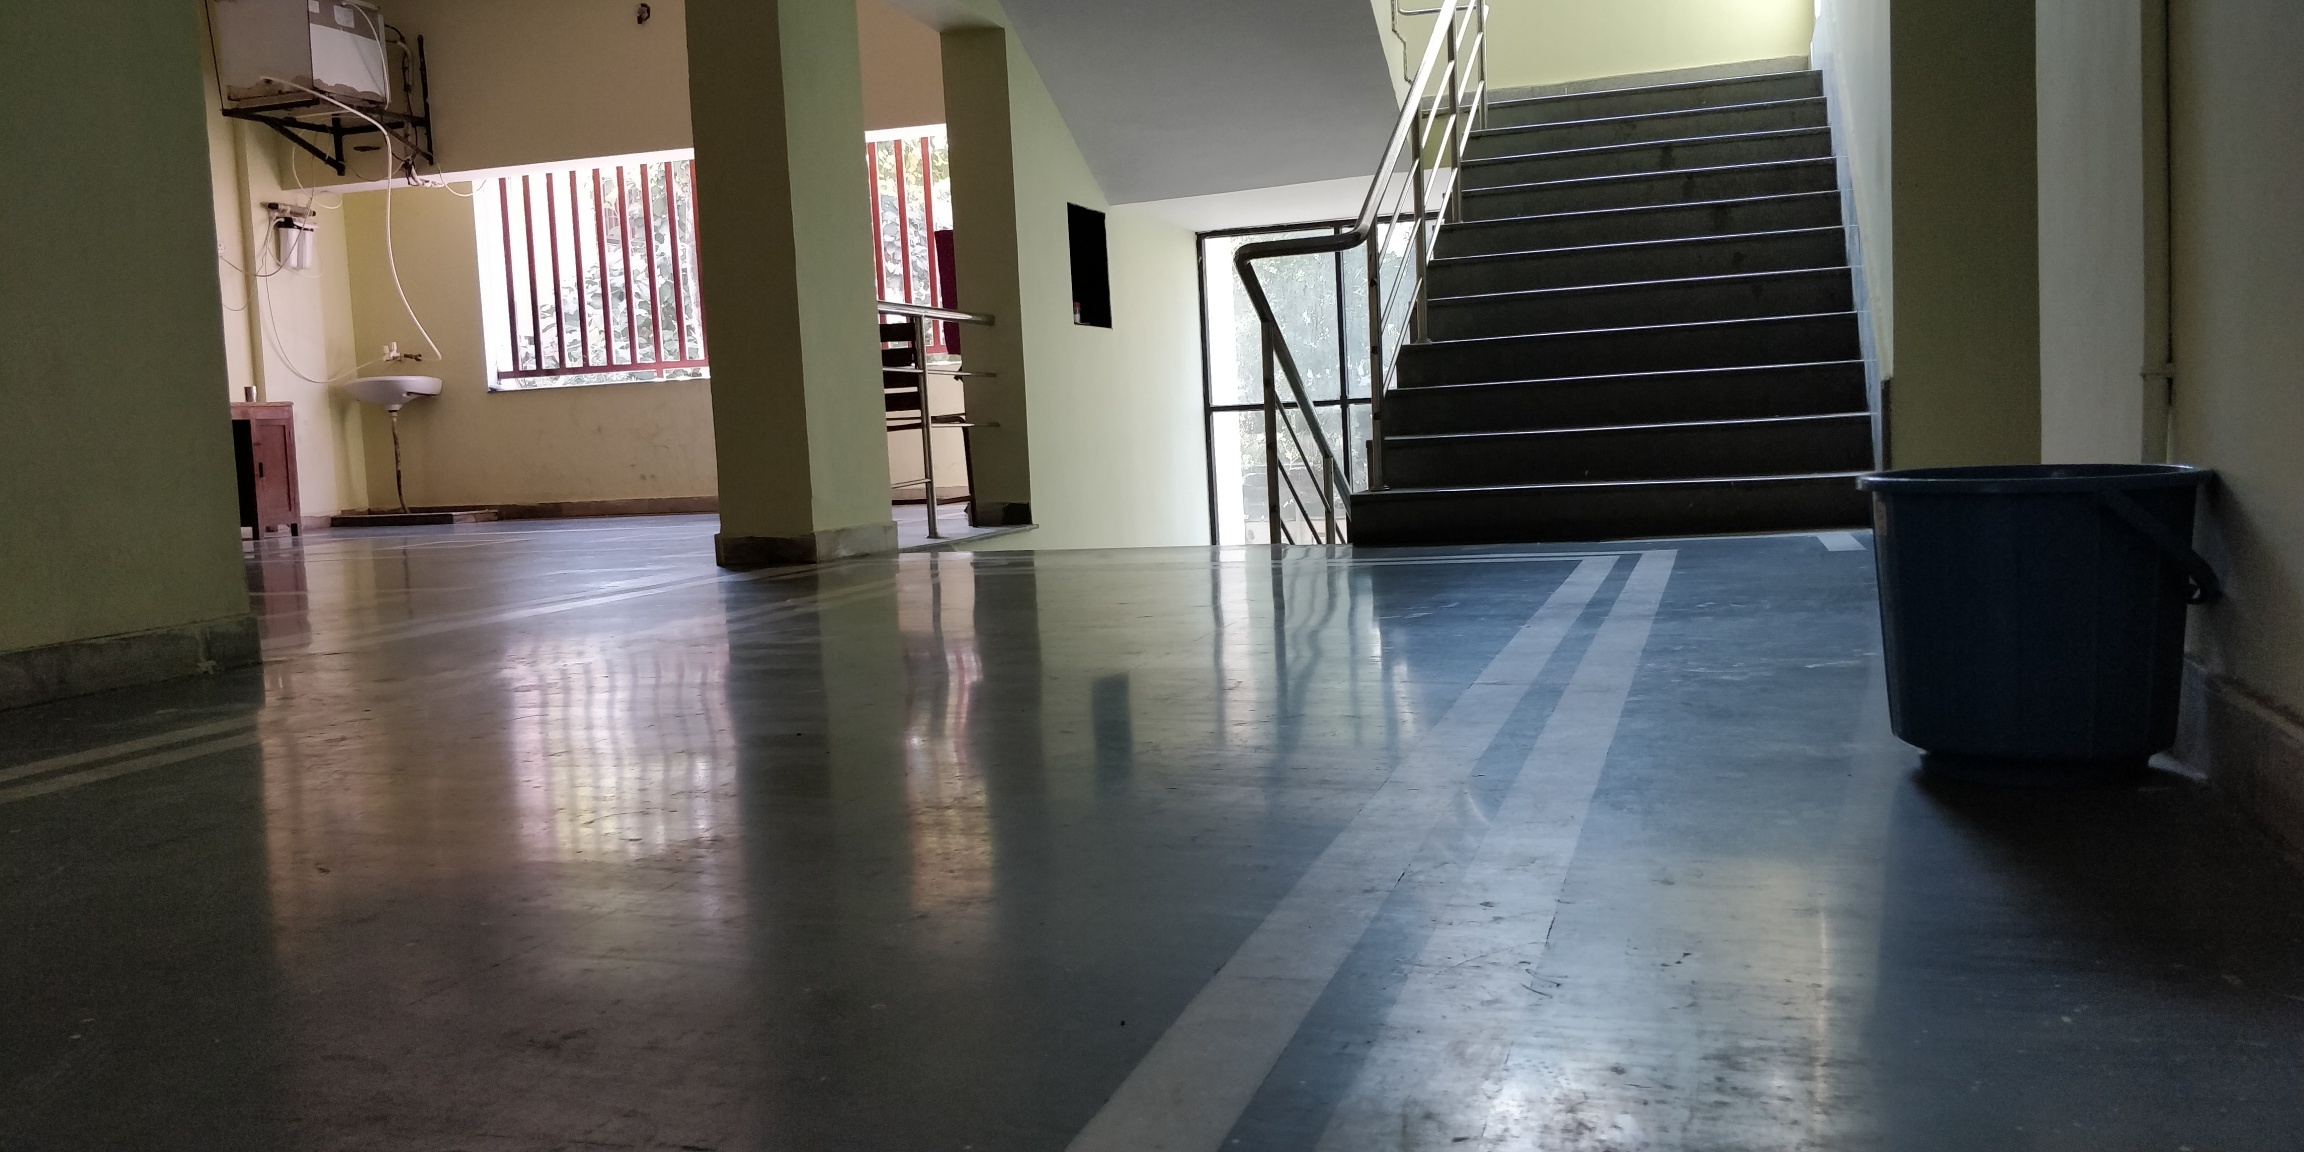stairs_up: (1349, 71, 1865, 525)
